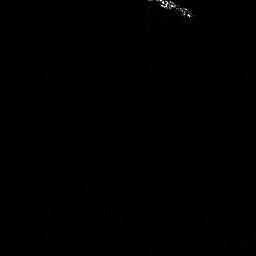ship: (153, 1, 193, 19)
